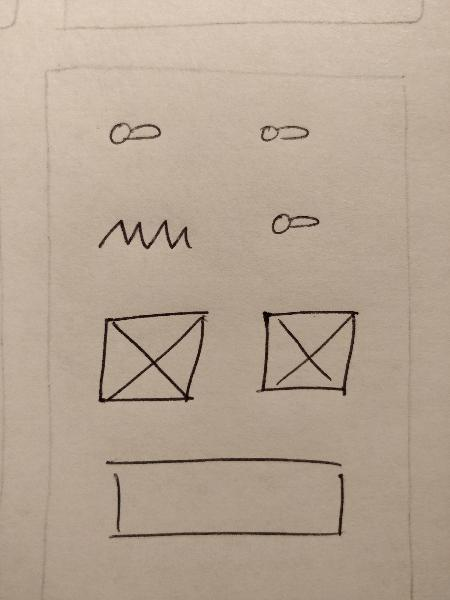image: (79, 303, 222, 412), (245, 300, 370, 407)
switch: (249, 114, 324, 161), (259, 203, 334, 245), (102, 112, 172, 152)
text_input: (84, 447, 363, 551), (87, 208, 209, 257)
